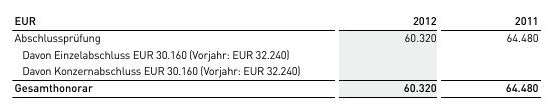table: (0, 0, 554, 111)
